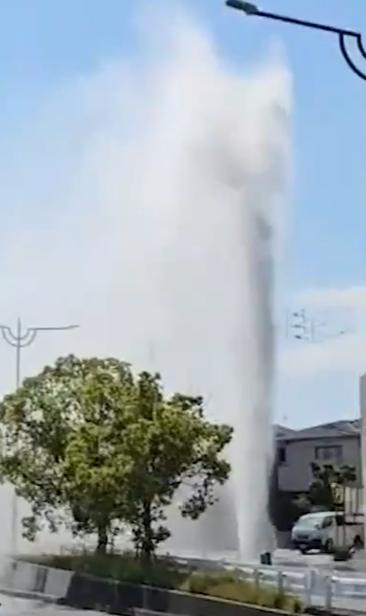pipe burst: (60, 0, 287, 563)
